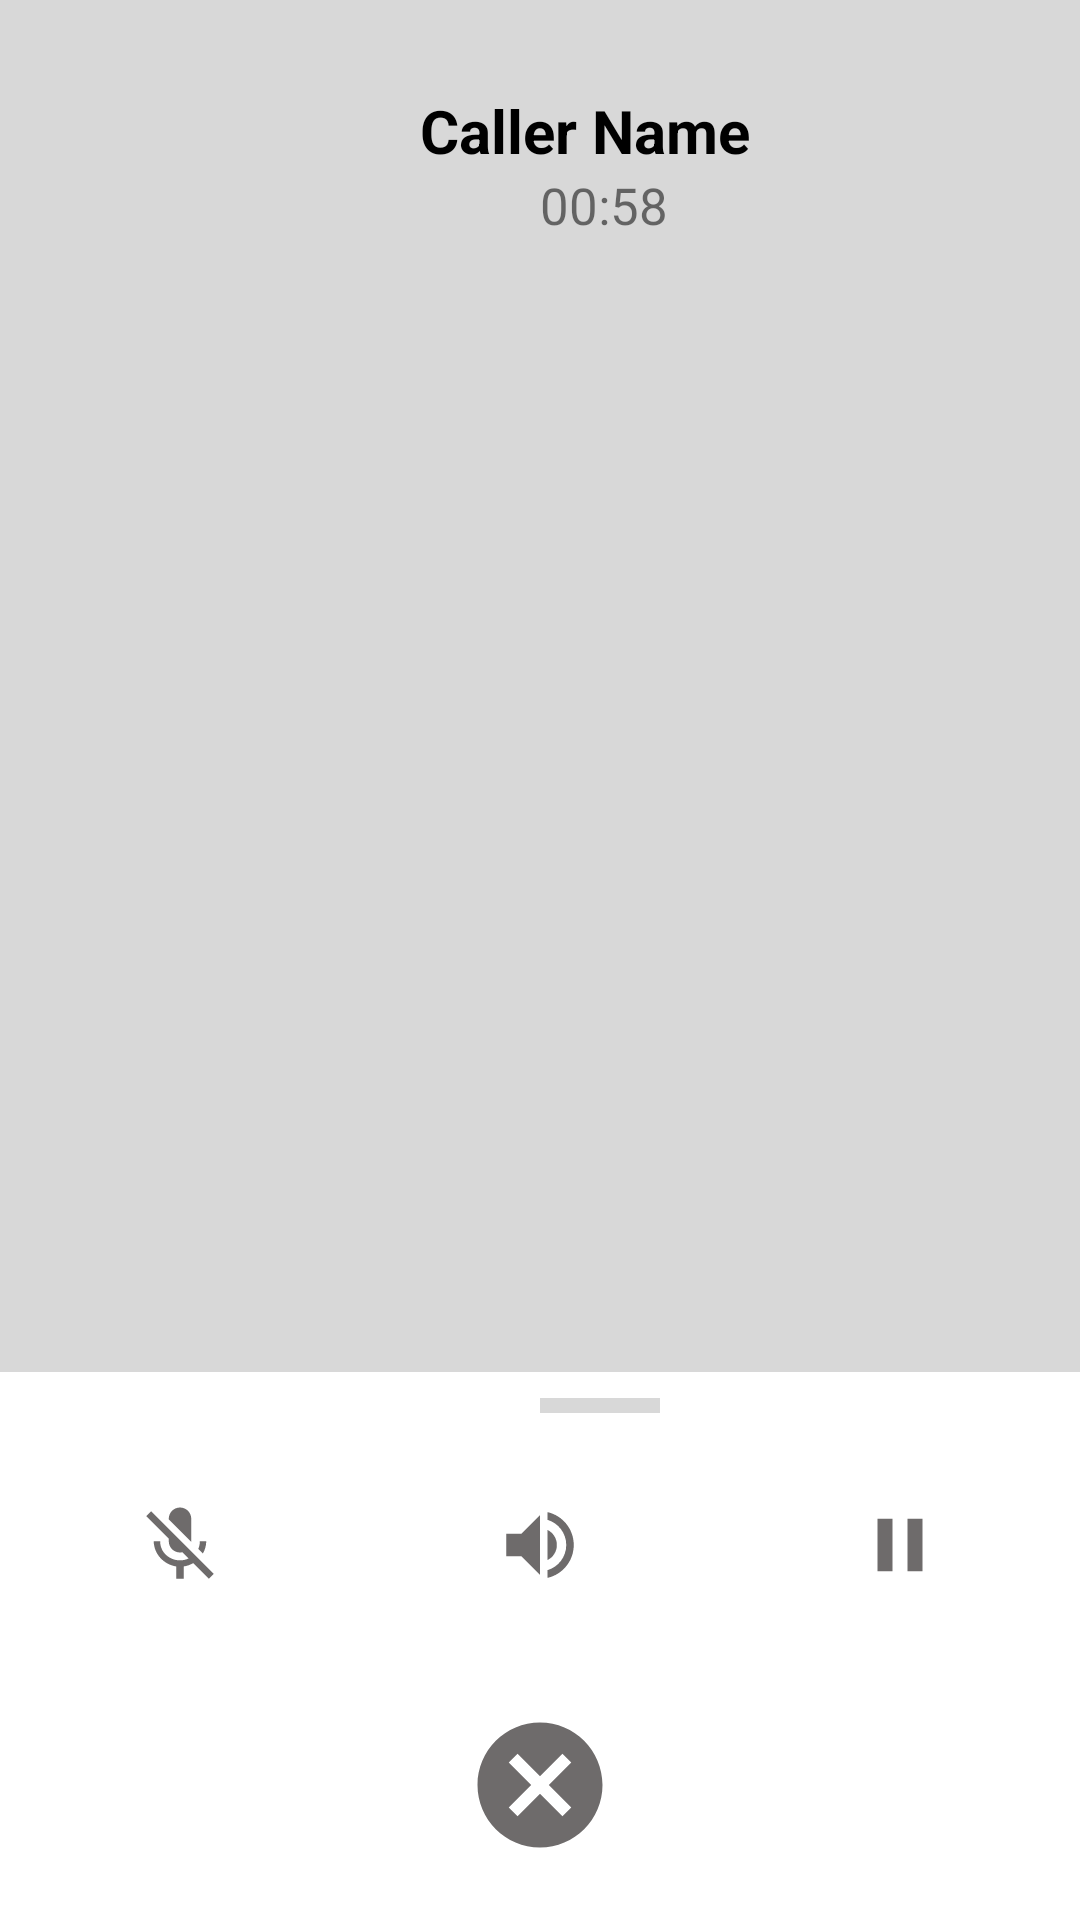

Icons on this 1080x1920 Android screen, each with the point to tap as point (x, y):
cancel: point (540, 1785)
mic off: point (180, 1543)
